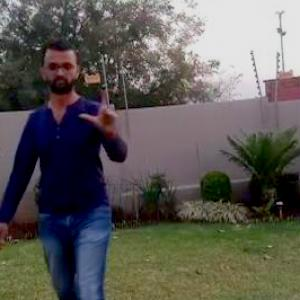land_hand: (76, 86, 128, 130)
